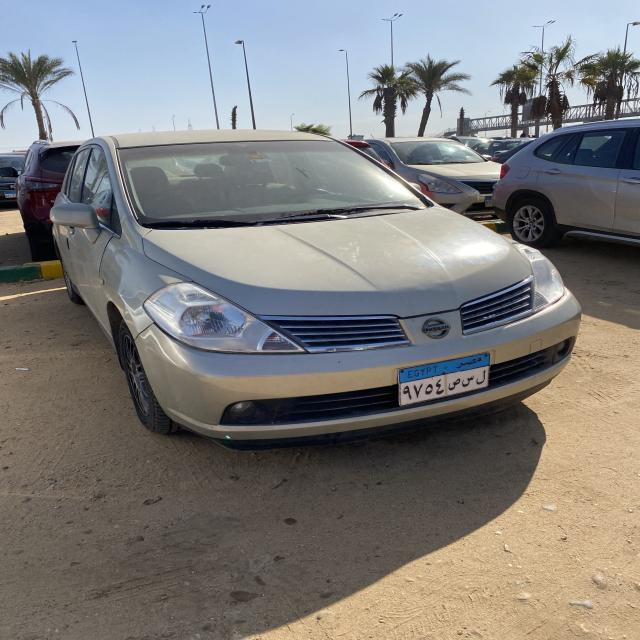License Plate: (398, 353, 489, 406), (484, 196, 492, 207), (4, 191, 16, 198)
